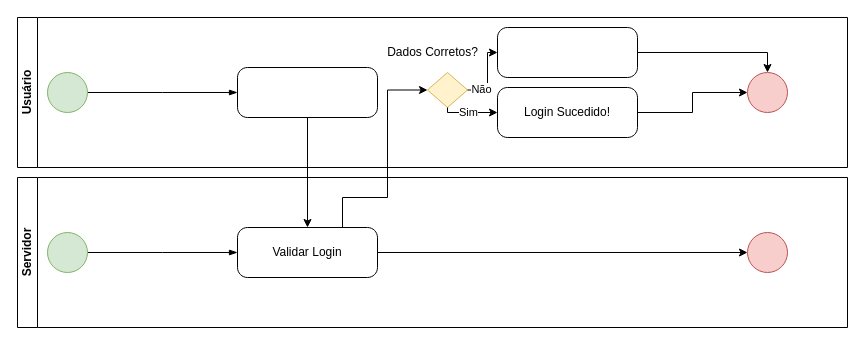
This 865x345 diagram has some shape labels left out. Each missing label, with the centre of its shape:
Erro ao Logar: the point at 567,52
Inserir Login: the point at 307,92
